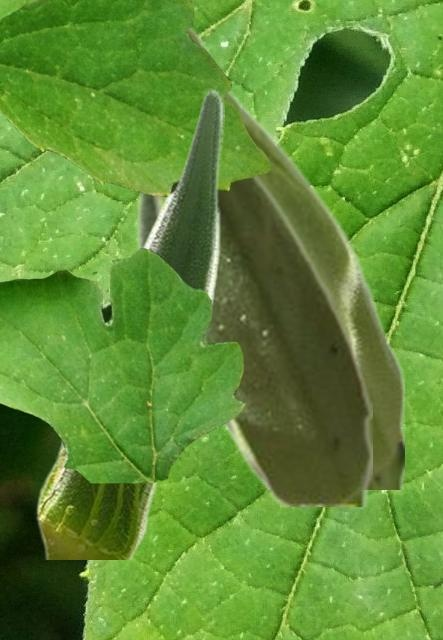okra: (135, 25, 403, 488), (35, 87, 223, 558), (148, 176, 371, 505)
